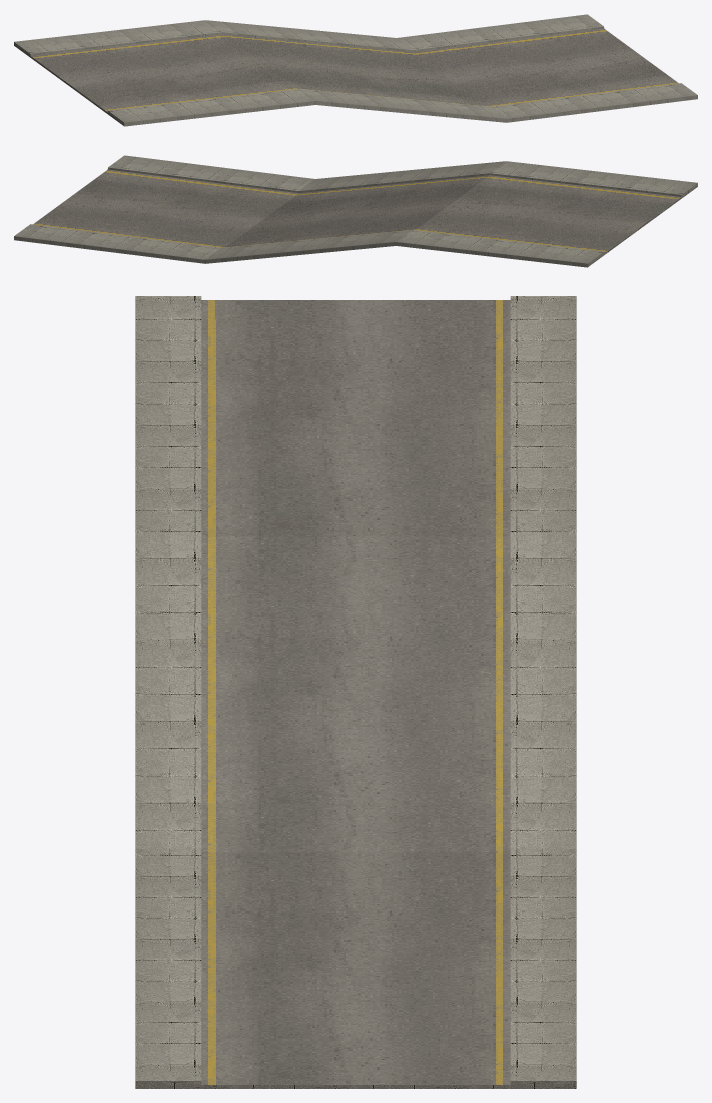
Rendered from road_2_slope.glb.
3 renders of one model, top to bottom at view 1: azimuth 30°, elevation 25°; view 2: azimuth 150°, elevation 25°; view 3: azimuth 270°, elevation 25°, orthographic. The views are drawn at different scales.
Visible parts, largest first — view 1: road_2_slope; view 2: road_2_slope; view 3: road_2_slope.
Boxes of the visible parts, bbox=[...] form: road_2_slope: bbox=[14, 14, 697, 126]; road_2_slope: bbox=[14, 155, 697, 267]; road_2_slope: bbox=[135, 296, 576, 1088].
Size of the model in its own units: 48 by 9.32 by 16.
2 materials, 2 textured.
